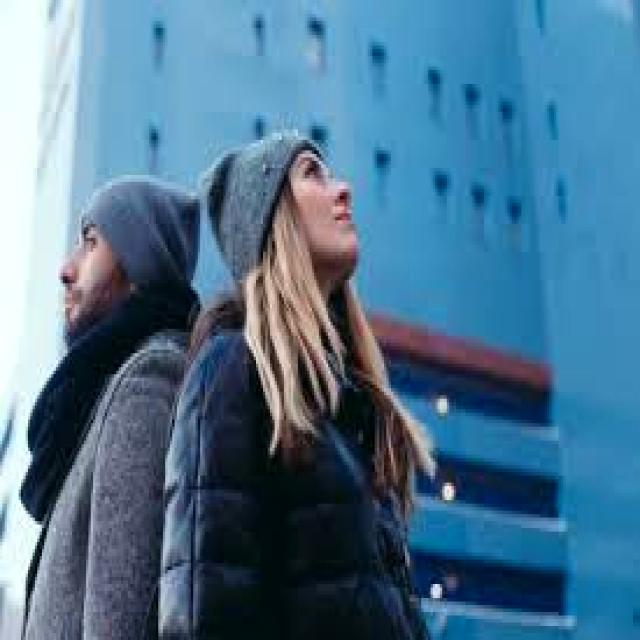hat: (203, 130, 321, 283), (82, 175, 200, 286)
